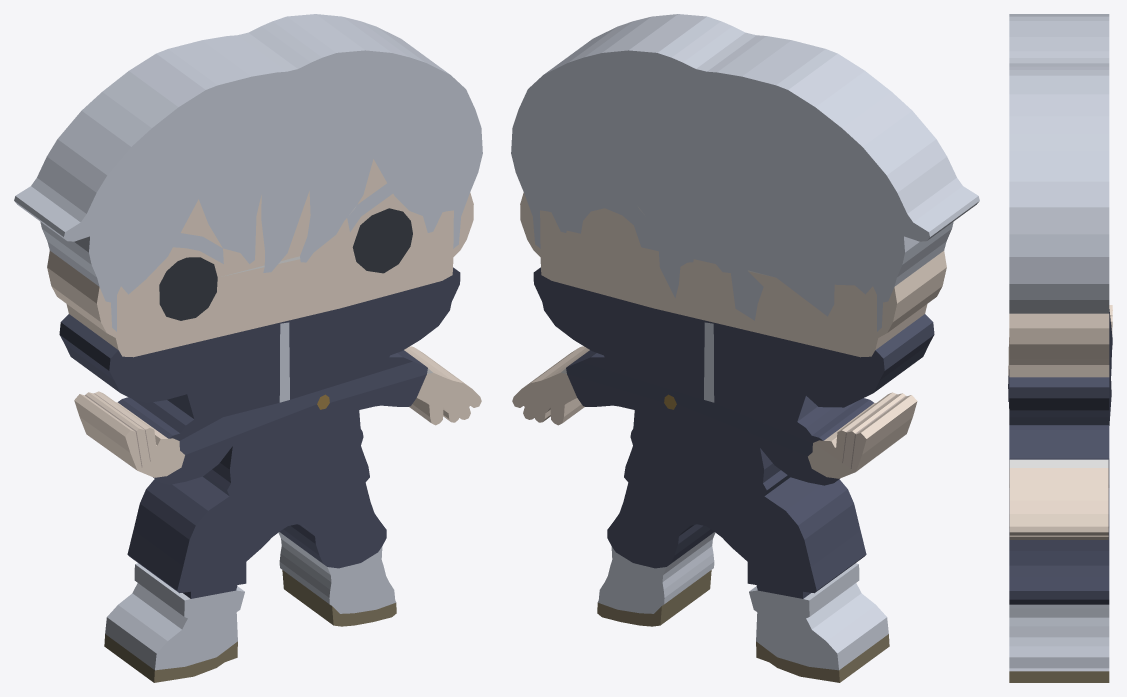
Rendered from funko.glb.
3 renders of one model, left to right at view 1: azimuth 30°, elevation 25°; view 2: azimuth 150°, elevation 25°; view 3: azimuth 270°, elevation 25°, orthographic.
Visible parts, largest first — view 1: Plane_0; view 2: Plane_0; view 3: Plane_0.
Part boxes in pixels (<box>): Plane_0: <box>14,14,482,682</box>; Plane_0: <box>511,14,979,682</box>; Plane_0: <box>1008,14,1112,682</box>.
Size of the model in its own units: 3.03 by 4.08 by 0.654.
